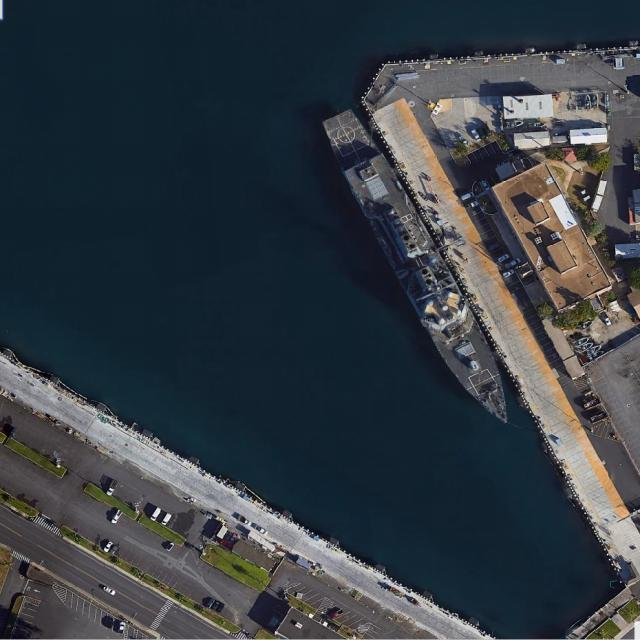Destroyer: (316, 103, 525, 437)
